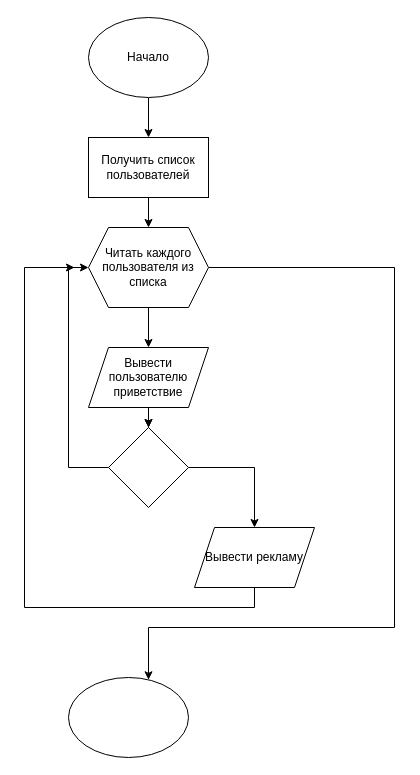
This 420x775 diagram has some shape labels left out. Each missing label, with the centre of its shape:
Если есть премиум: the point at 148,467
Конец: the point at 128,717
